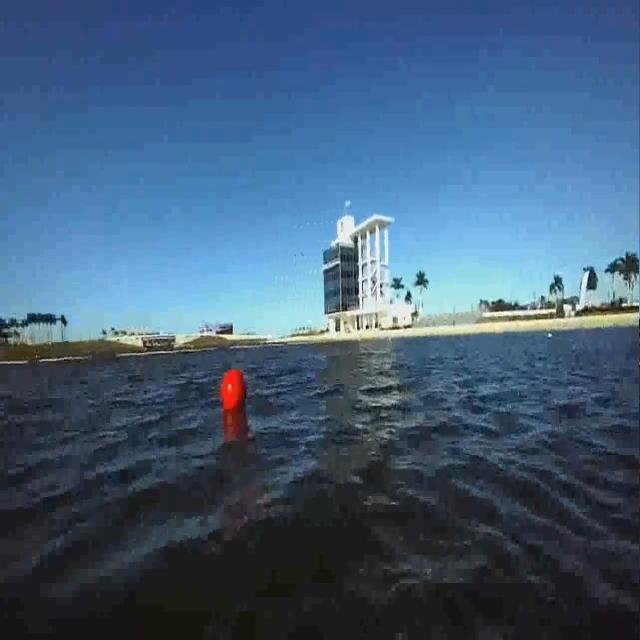red-buoy: (220, 367, 247, 413)
